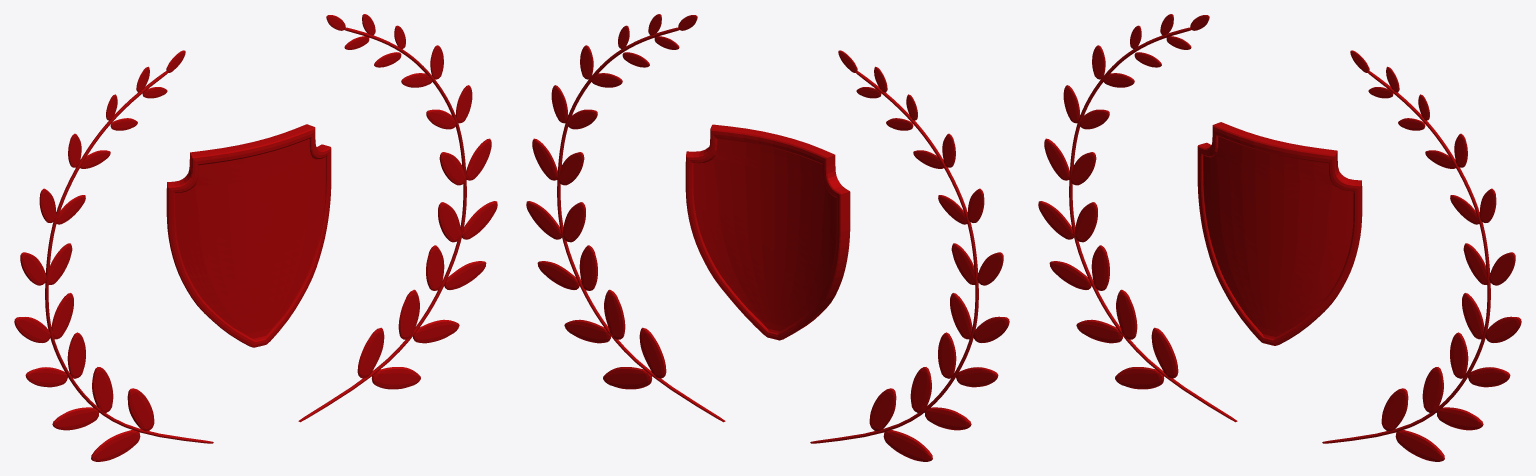
Rendered from PUP-Shield_old.glb.
3 views of the same model, side by side, from view 1: azimuth 30°, elevation 25°; view 2: azimuth 150°, elevation 25°; view 3: azimuth 330°, elevation 25° (orthographic).
Visible parts, largest first — view 1: pCube1, pCylinder3, pCylinder2; view 2: pCube1, pCylinder3, pCylinder2; view 3: pCube1, pCylinder2, pCylinder3.
Boxes of the visible parts, x1,y1,x2,y2 form: pCube1: [166, 124, 331, 347]; pCylinder3: [298, 14, 497, 422]; pCylinder2: [14, 50, 213, 461]; pCube1: [685, 124, 850, 340]; pCylinder3: [526, 14, 725, 422]; pCylinder2: [810, 50, 1009, 461]; pCube1: [1197, 122, 1362, 345]; pCylinder2: [1038, 14, 1237, 422]; pCylinder3: [1322, 50, 1521, 461].
Size of the model in its own units: 626 by 495 by 37.32.
